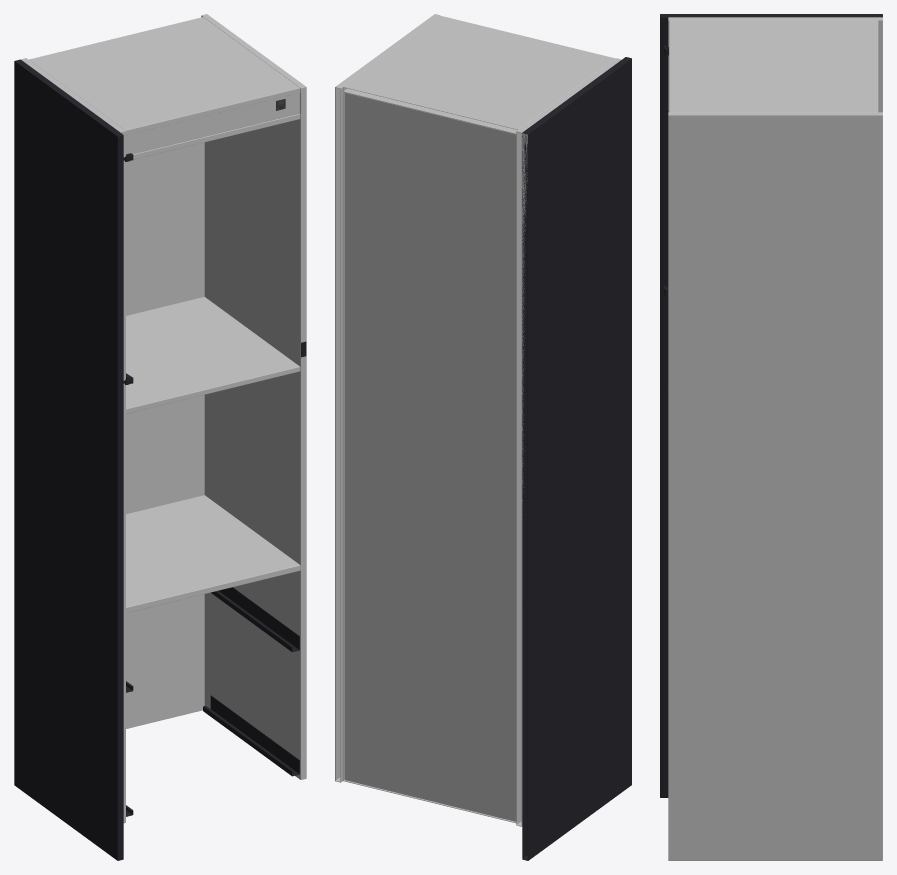
File: SM_Kitchen_01_Base.dae
The picture shows the model from 3 angles, left to right: view 1: azimuth 30°, elevation 25°; view 2: azimuth 150°, elevation 25°; view 3: azimuth 270°, elevation 25°; orthographic projection. The views are drawn at different scales.
Parts seen in each view (by area): view 1: SM_Kitchen_01_Base; view 2: SM_Kitchen_01_Base; view 3: SM_Kitchen_01_Base.
Boxes of the visible parts, x1,y1,x2,y2 form: SM_Kitchen_01_Base: (14, 14, 306, 860); SM_Kitchen_01_Base: (335, 14, 631, 860); SM_Kitchen_01_Base: (660, 14, 882, 860).
Bounding box in the file's own units: 0.6199 × 0.5759 × 2.23.
